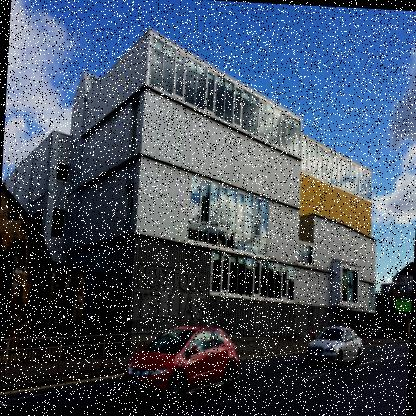Car: (117, 323, 242, 411), (305, 324, 363, 370)
